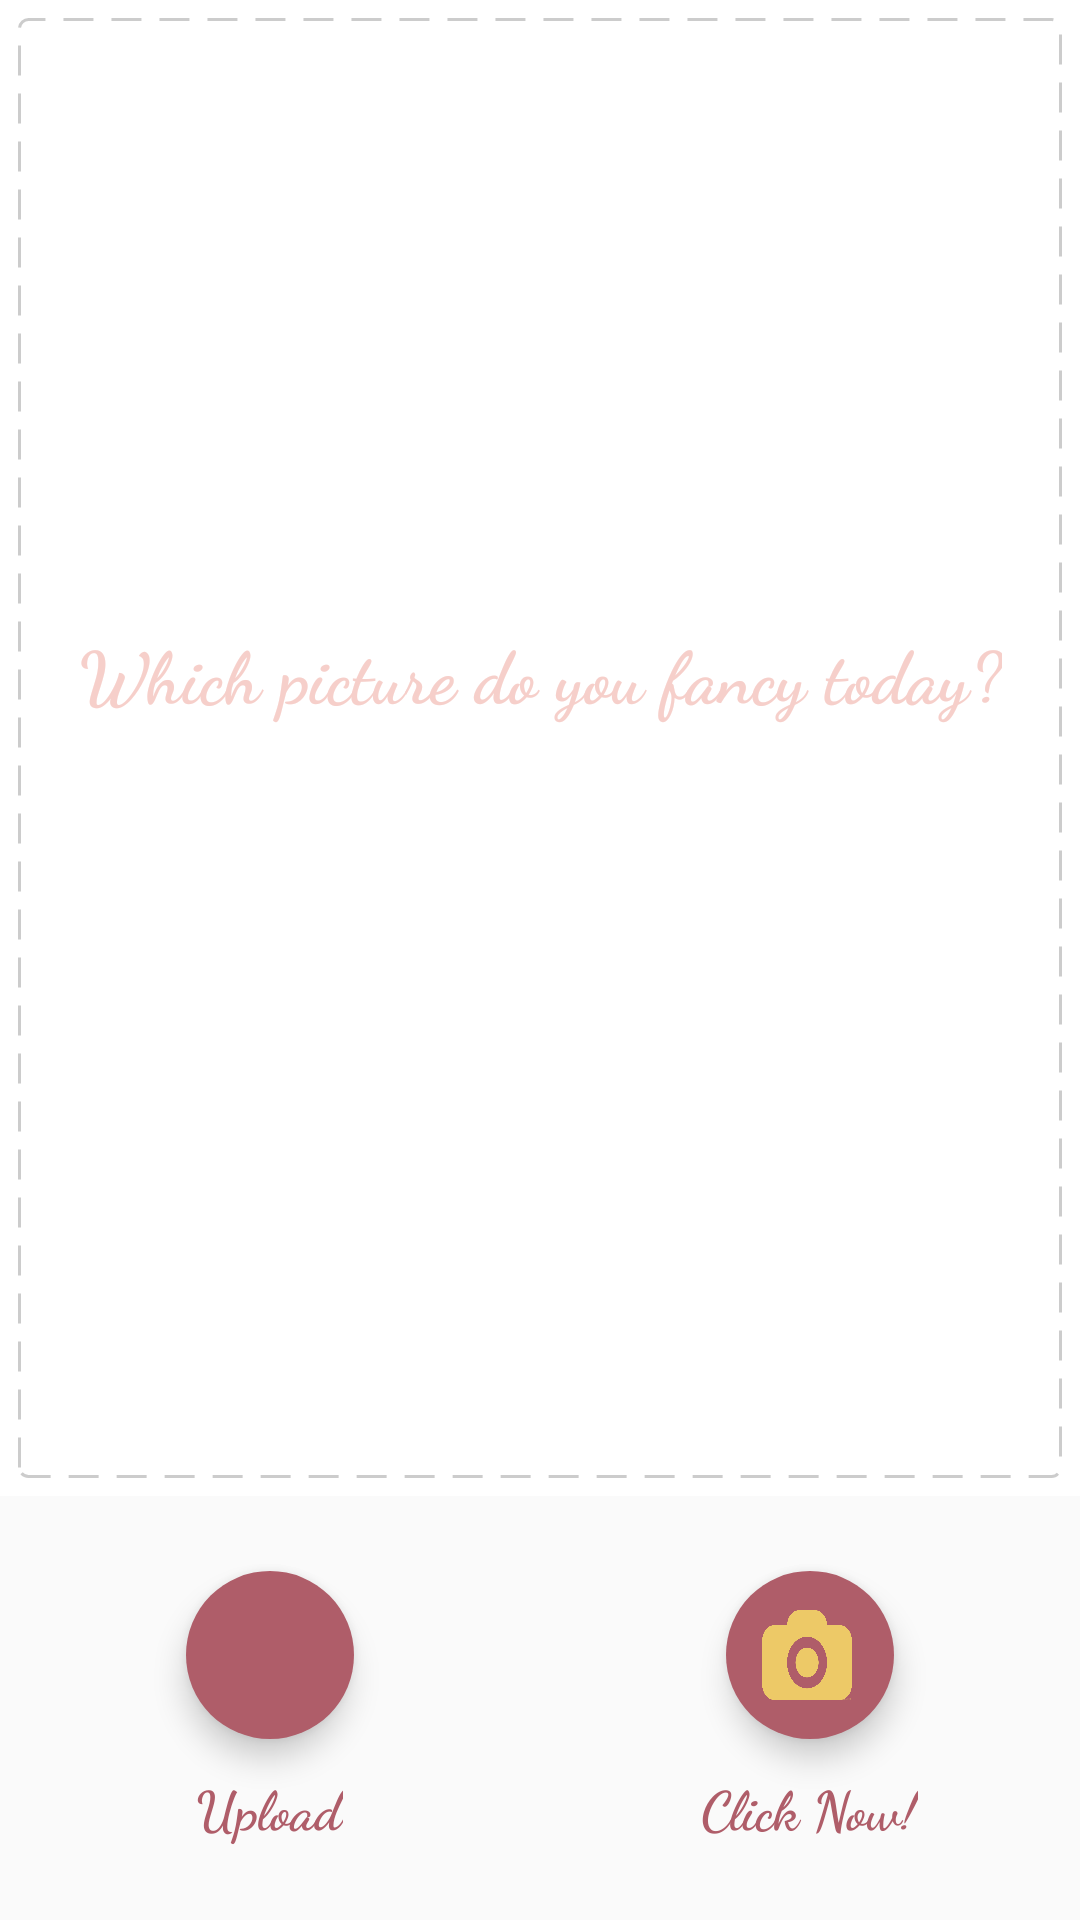

Icon click points for this 1080px×1920px phone screenshot, format (x=x, y=y):
camera: (x=810, y=1655)
